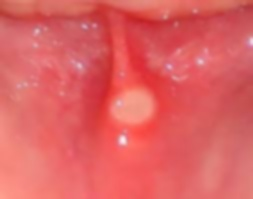Ulcer: (100, 79, 161, 126)
